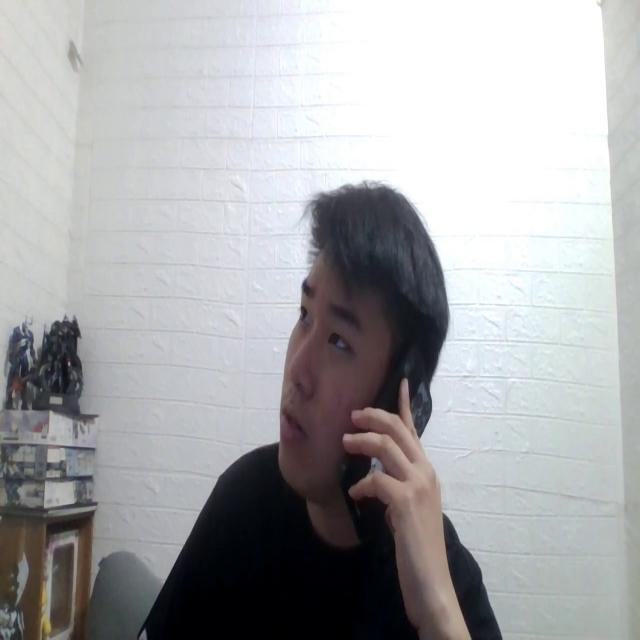phone: (337, 326, 434, 528)
student: (124, 169, 502, 640)
